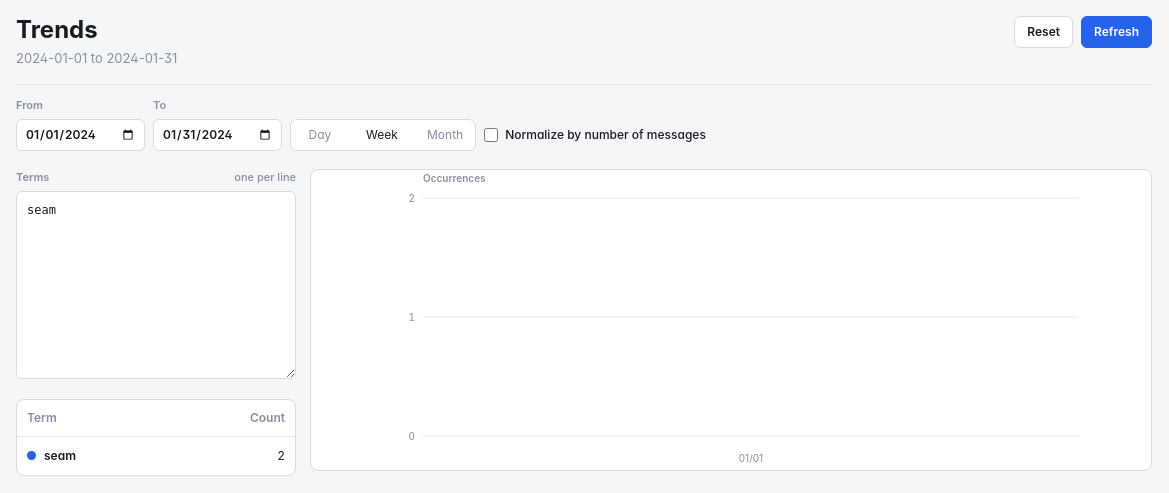
TrendsPage › toggles normalized term totals
The image size is (1169, 493).
Click the checkbox labelled "Normalize by number of messages": {"x": 491, "y": 135} [484,128,498,142]
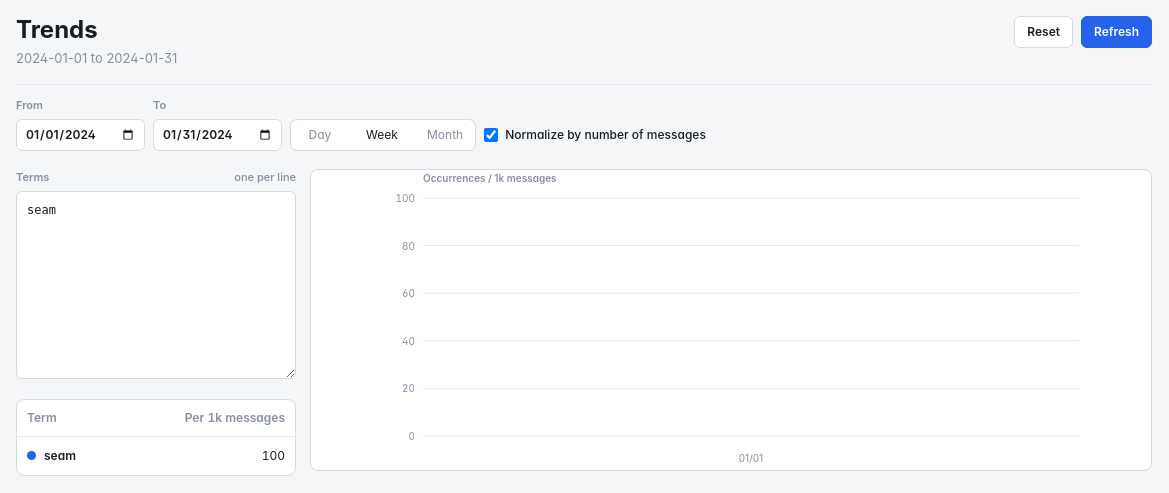
Expected: the text "Per 1k messages" is shown, [175,400,295,436]
Expected: the text "100" is shown, [396,192,415,204]
